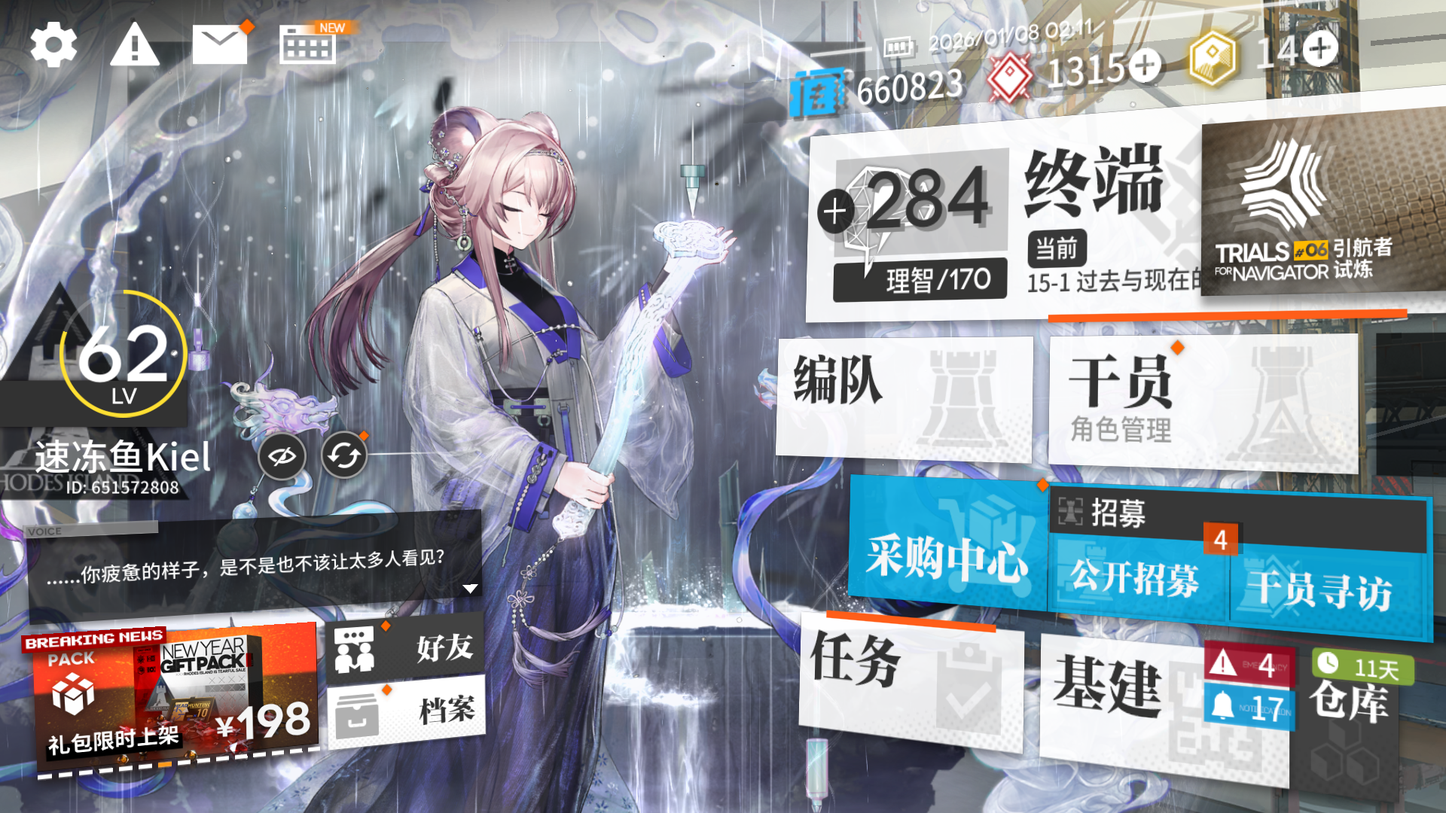home_button: (1009, 150, 1168, 239)
infrastructure_button: (1041, 641, 1157, 712)
